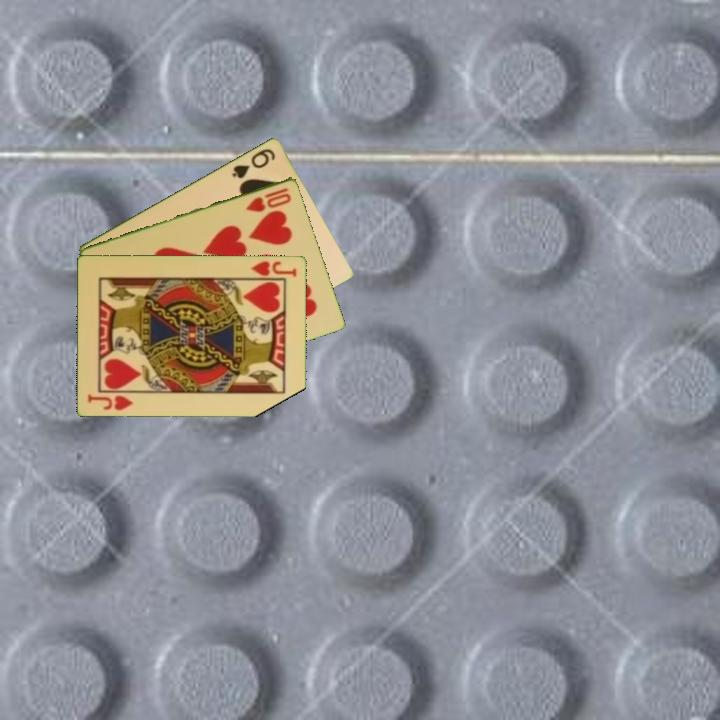10h: (242, 184, 294, 215)
6s: (229, 144, 278, 181)
Jh: (85, 390, 136, 413), (248, 257, 300, 279)
